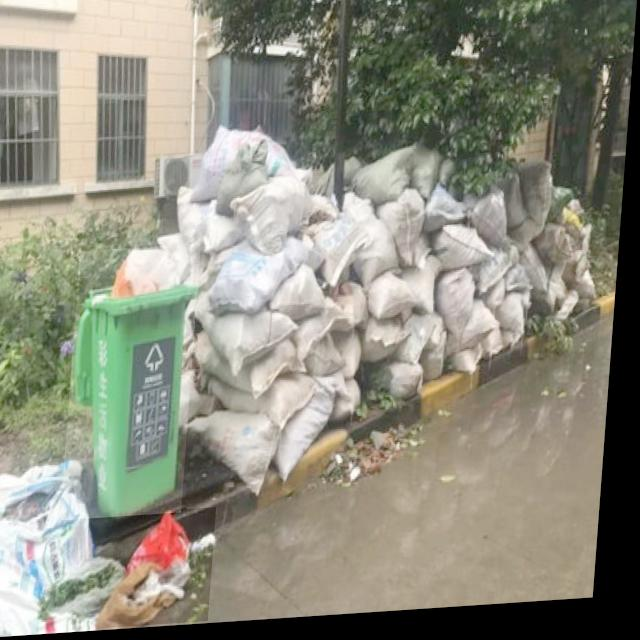garbage: (46, 511, 224, 634)
overflow: (68, 246, 205, 522)
